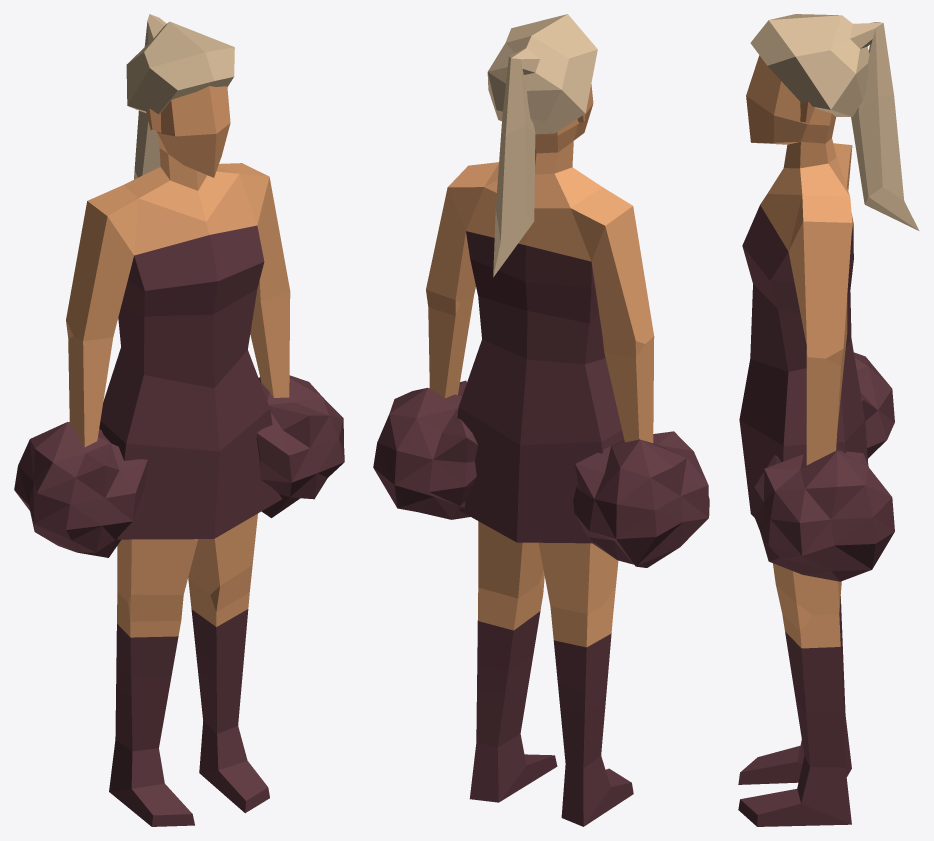
The model's file is woman-cheerleader.fbx.
3 views of the same model, side by side, from view 1: azimuth 30°, elevation 25°; view 2: azimuth 150°, elevation 25°; view 3: azimuth 270°, elevation 25° (orthographic). The views are drawn at different scales.
Visible parts, largest first — view 1: woman-cheerleader; view 2: woman-cheerleader; view 3: woman-cheerleader.
Boxes of the visible parts, box(x1,y1,x2,y2) form: woman-cheerleader: box(14, 14, 344, 826); woman-cheerleader: box(373, 14, 709, 826); woman-cheerleader: box(738, 14, 919, 826).
Bounding box in the file's own units: 0.7892 × 1.85 × 0.3887.
